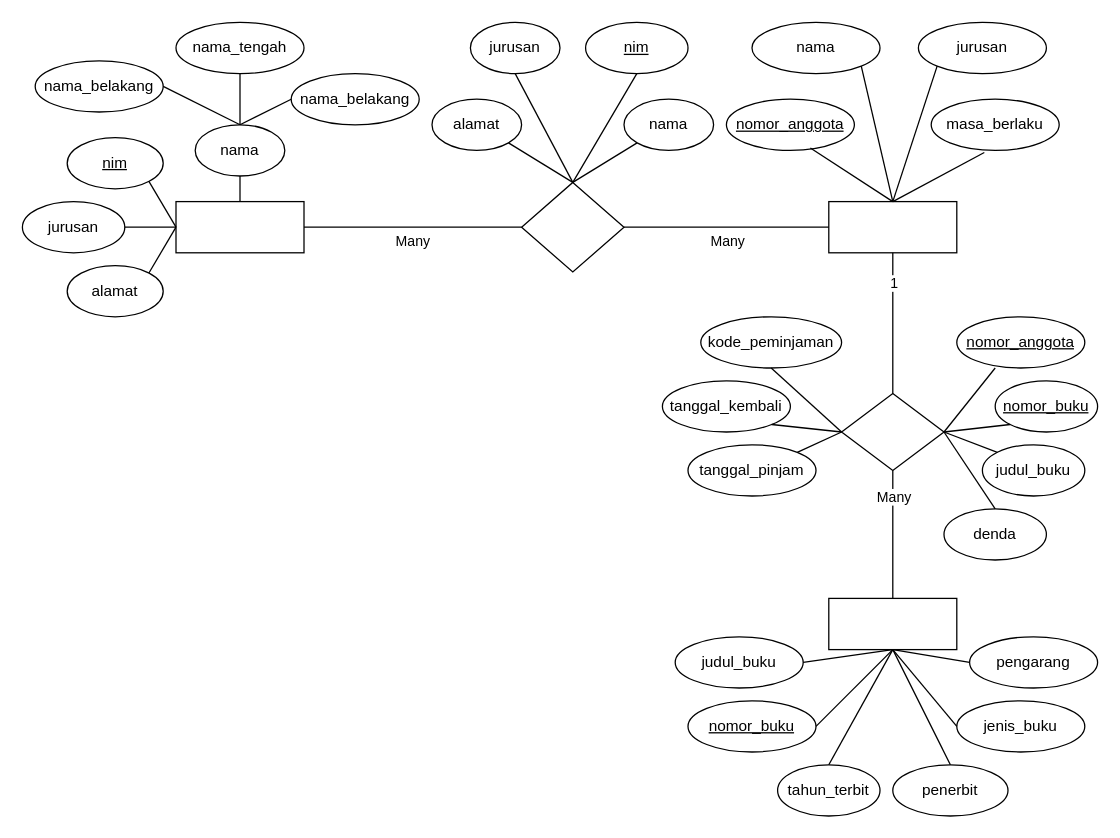
Image size: 1120x838. Some labels were removed from this diagram. Each missing label, with the box of its shape:
Anggota Perpustakaan: (828, 200, 957, 253)
Buku: (828, 597, 957, 650)
Mahasiswa: (175, 200, 304, 253)
Meminjam: (840, 392, 944, 470)
Mendaftar: (520, 181, 624, 272)
